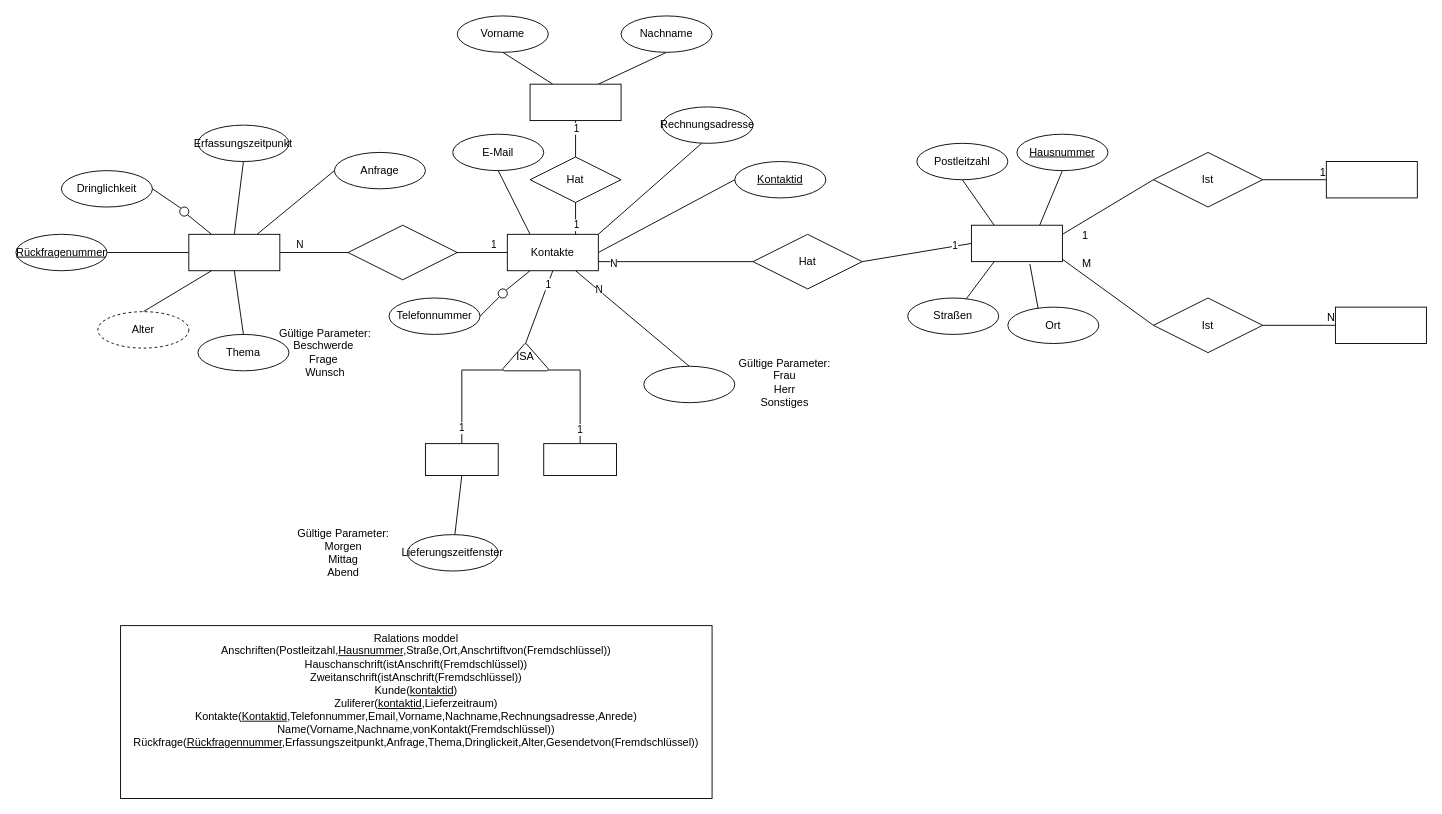
Image size: 1442x814. Some labels were removed from this diagram. Here are the shapes that lost their labels. From the top down, the box of each, then its label:
(529, 83, 621, 121): Name
(1325, 161, 1417, 198): Hausanschrift
(188, 233, 280, 271): Rückfrage
(347, 224, 457, 280): Gesendet
(971, 224, 1062, 262): Anschriften
(1335, 306, 1426, 344): Zweitanschtift
(643, 365, 735, 403): Anrede
(425, 443, 498, 475): Zuliferer
(543, 443, 617, 475): Kunde
